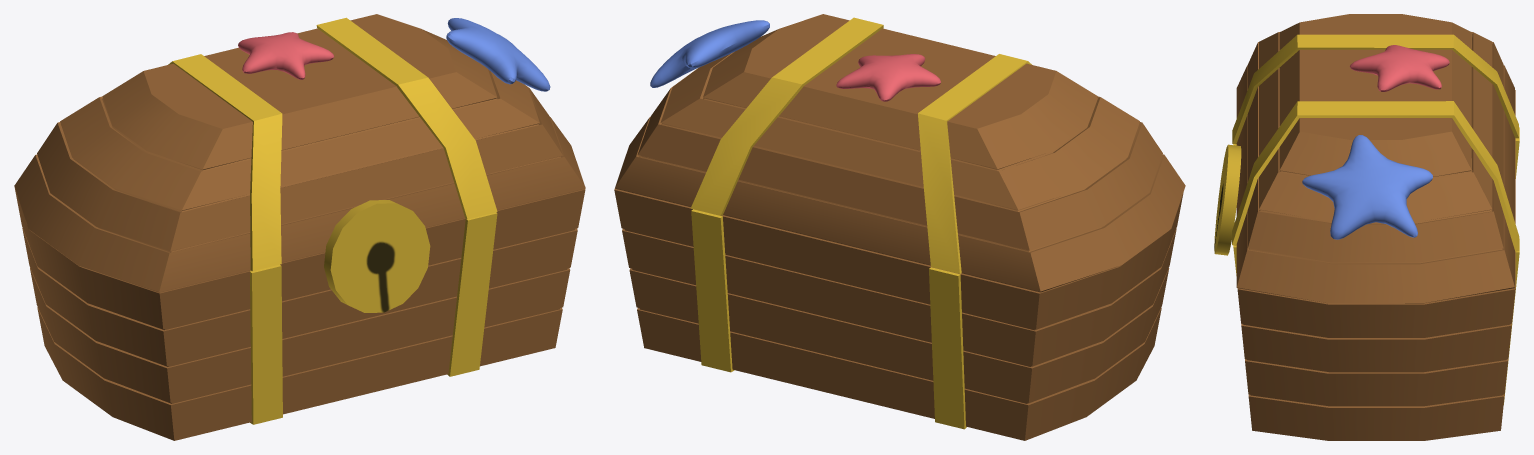
The picture shows the model from 3 angles, left to right: view 1: azimuth 30°, elevation 25°; view 2: azimuth 150°, elevation 25°; view 3: azimuth 270°, elevation 25°; orthographic projection. The views are drawn at different scales.
Parts seen in each view (by area): view 1: 盖子, 身体; view 2: 盖子, 身体; view 3: 盖子, 身体.
Part boxes in pixels (x1,y1,x2,y2): 盖子: (14,14,585,312); 身体: (15,189,585,440); 盖子: (615,14,1185,292); 身体: (614,188,1183,440); 盖子: (1214,14,1519,303); 身体: (1233,90,1519,440).
Size of the model in its own units: 1.96 by 1.14 by 1.1.
5 materials, 1 textured.
